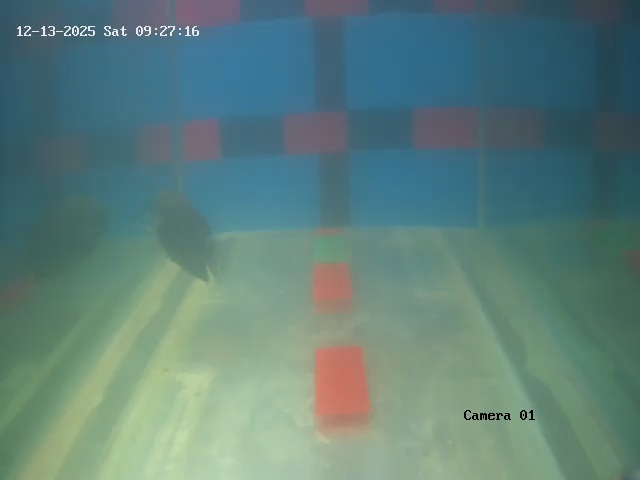fish: (134, 191, 243, 279)
